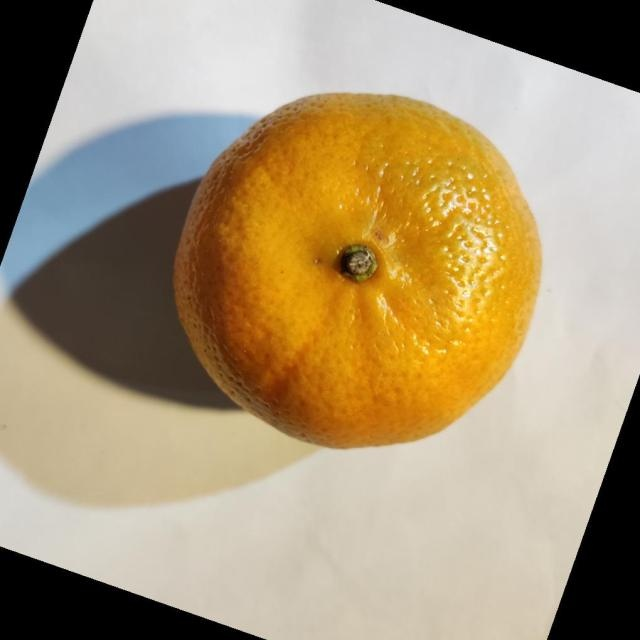agrume: (171, 89, 543, 451)
